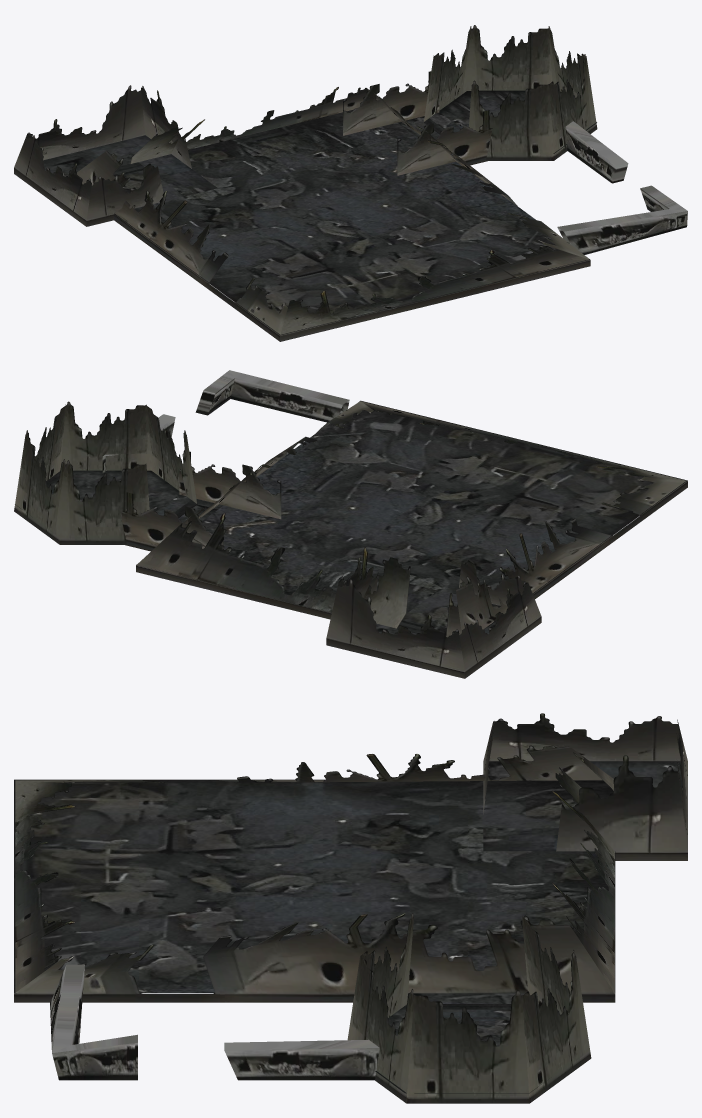
File: bturretcontrol_dam_hdtex.glb
The picture shows the model from 3 angles, top to bottom: view 1: azimuth 30°, elevation 25°; view 2: azimuth 150°, elevation 25°; view 3: azimuth 270°, elevation 25°; orthographic projection. The views are drawn at different scales.
Parts seen in each view (by area): view 1: Dturretcontrol; view 2: Dturretcontrol; view 3: Dturretcontrol.
Part boxes in pixels (bbox=[...]): Dturretcontrol: bbox=[14, 25, 687, 341]; Dturretcontrol: bbox=[14, 370, 687, 678]; Dturretcontrol: bbox=[14, 713, 687, 1103].
Size of the model in its own units: 25.19 by 4.41 by 21.54.
Materials: 2 (2 with a texture image).
